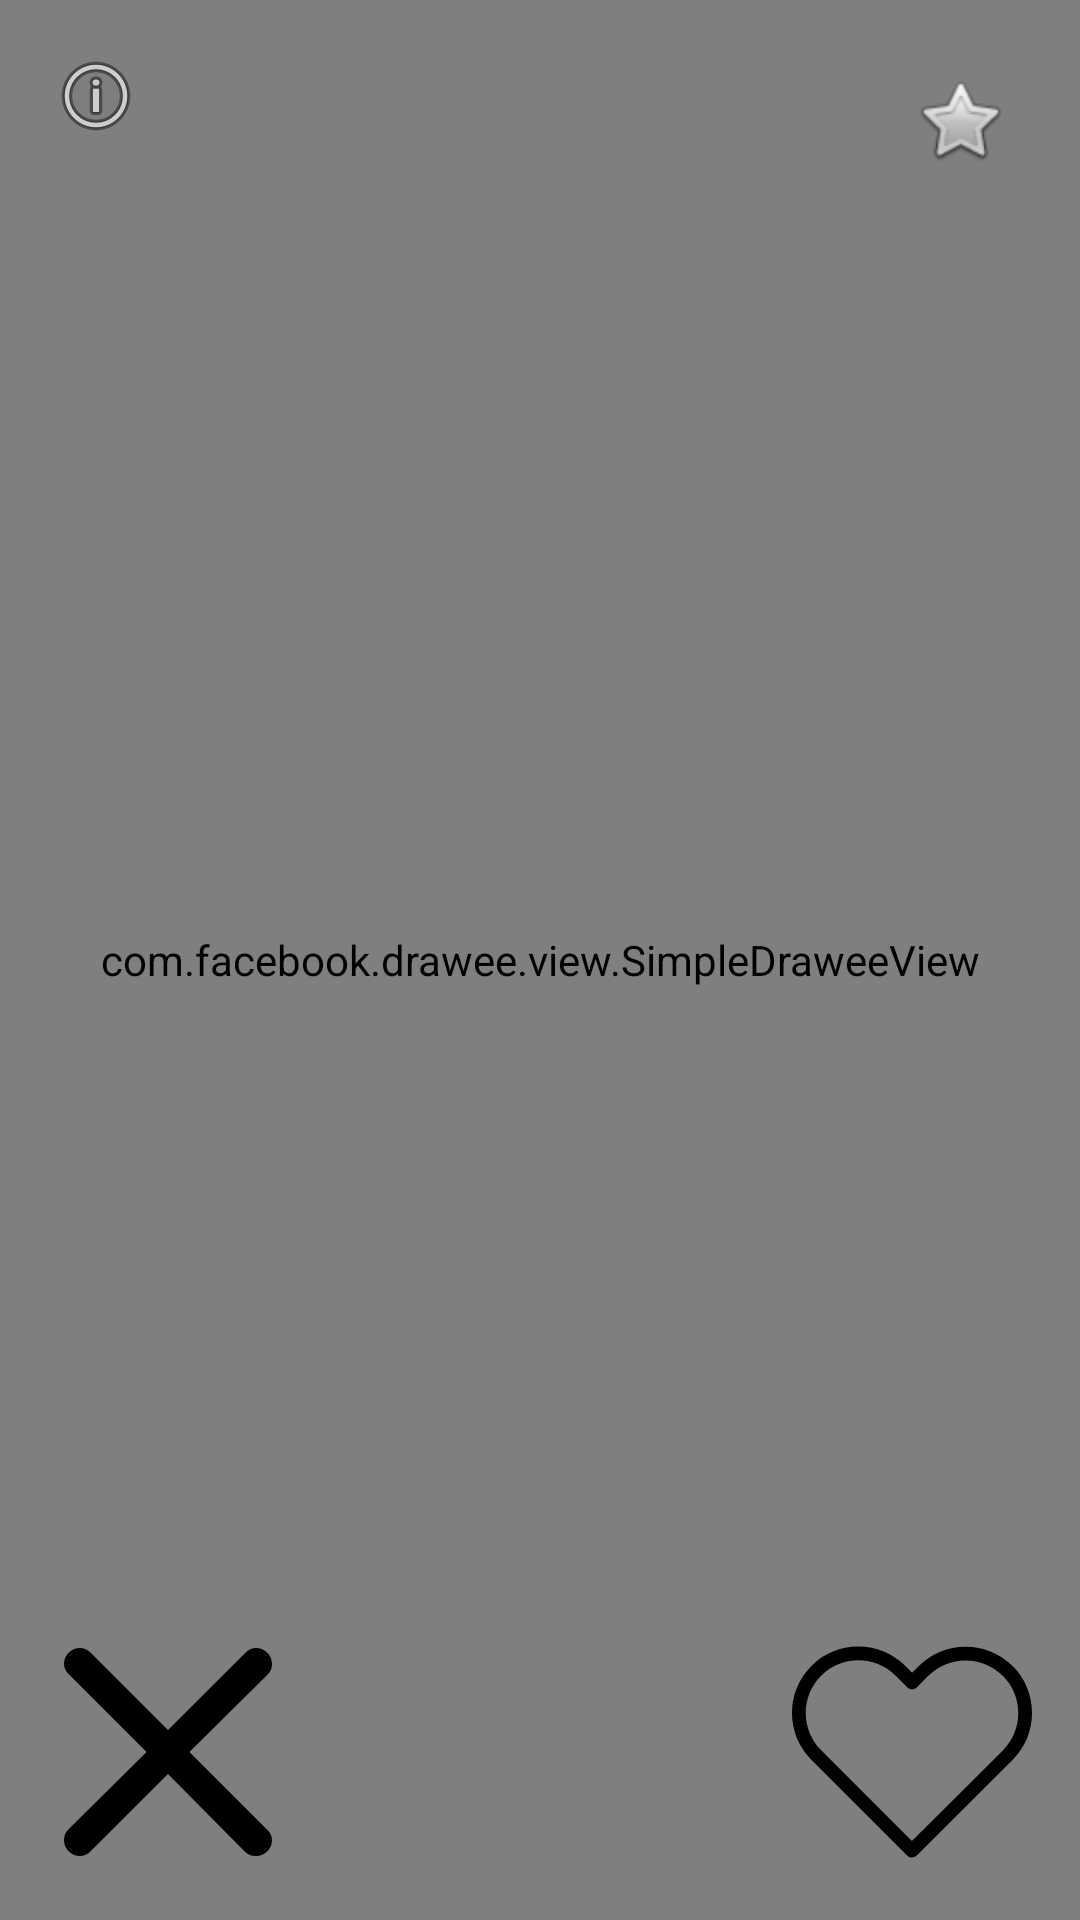

Named icons in this screenshot (1080w x 1920h) and their bounding boxes, (x1, y1, x2, y2):
cross: (64, 1648, 272, 1856)
heart: (792, 1646, 1032, 1858)
info details: (62, 62, 130, 130)
star: (922, 84, 1000, 159)
